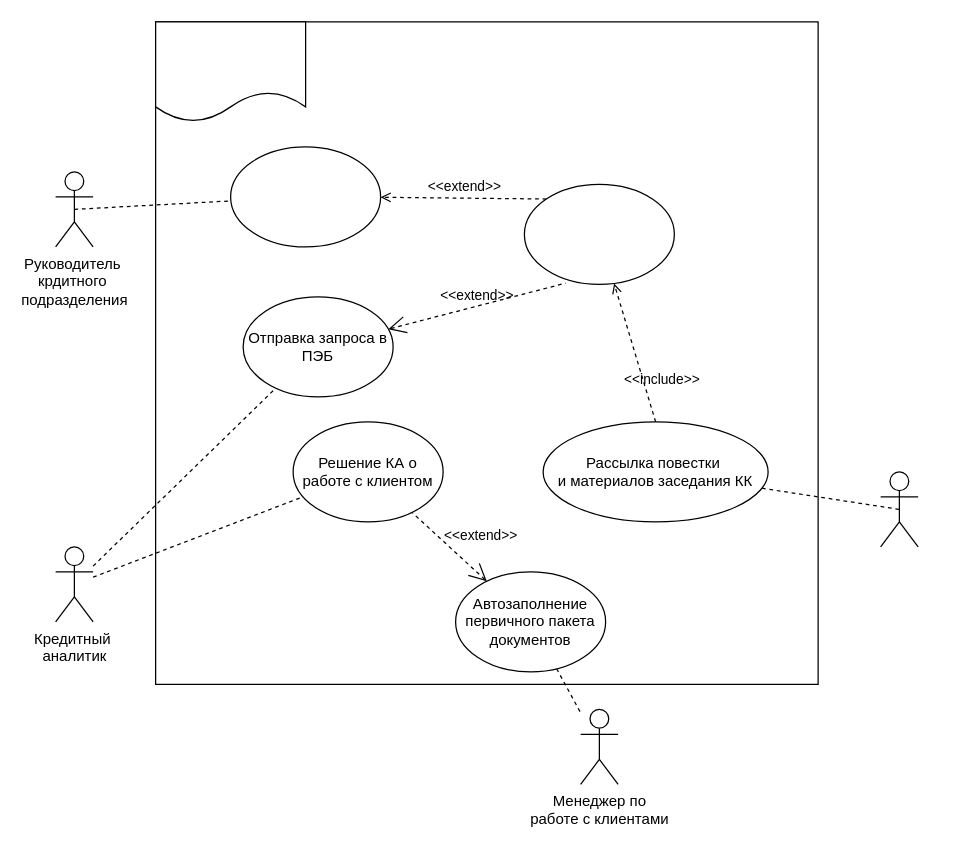
The diagram is 969 pixels wide and 851 high, and some of its shapes have lost their labels. Each missing label, with the centre of its shape:
Диаграмма Вариантов использования: point 230,71
Назначение Кредитного аналитика: point 305,196
Оповещение сотрудника: point 598,233
Секретарь КК: point 898,509
